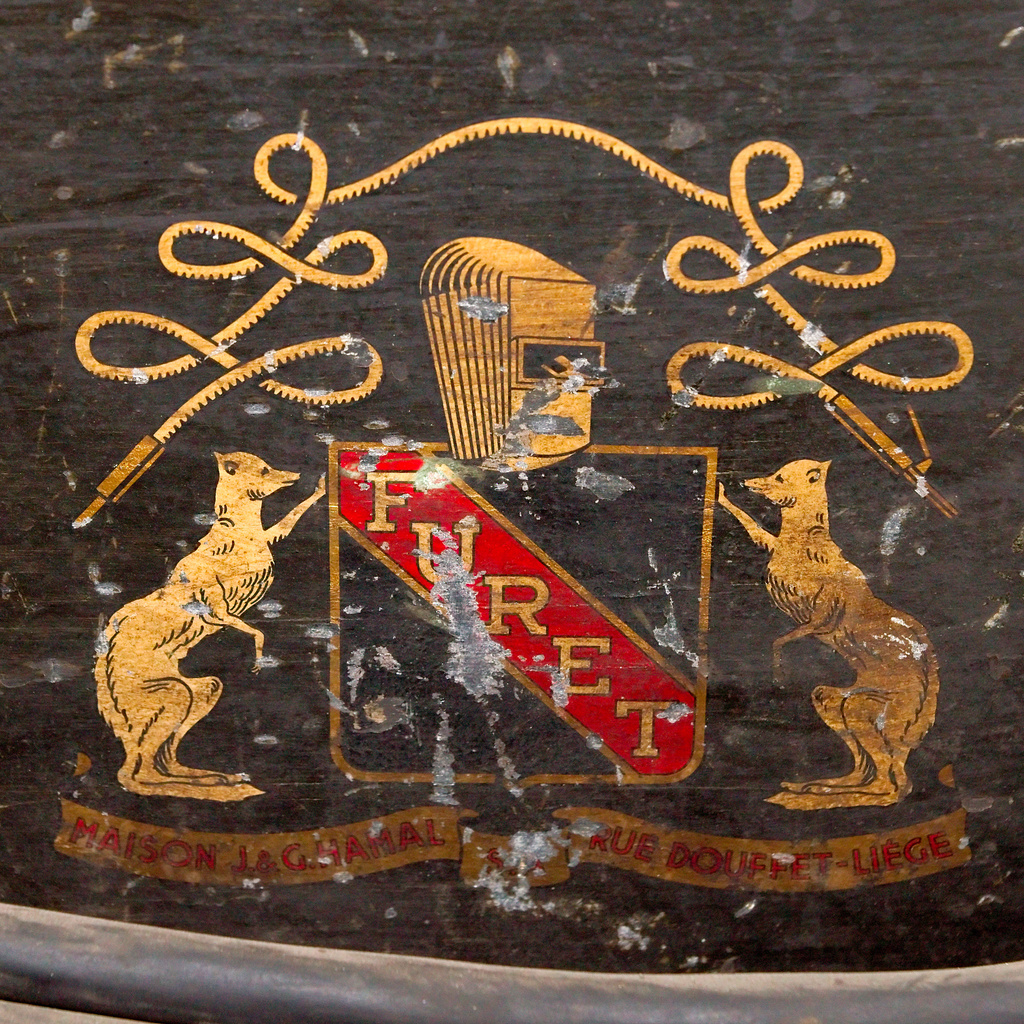Animal: (100, 444, 331, 799), (715, 457, 941, 806)
